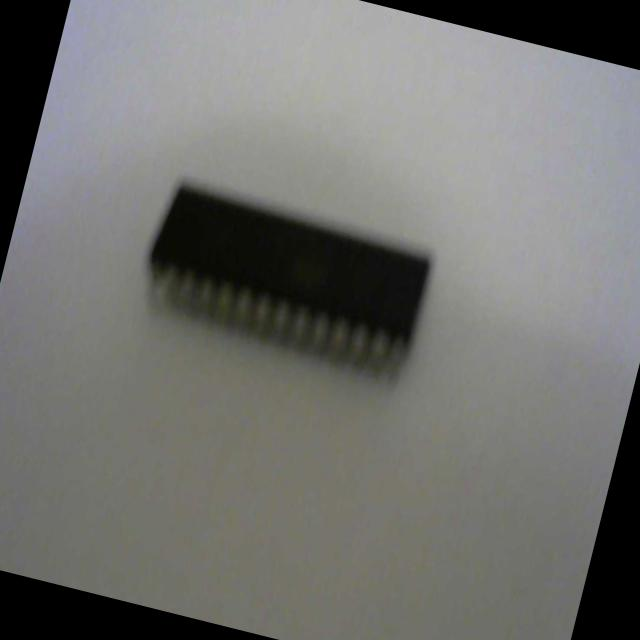atmega: (130, 170, 441, 391)
